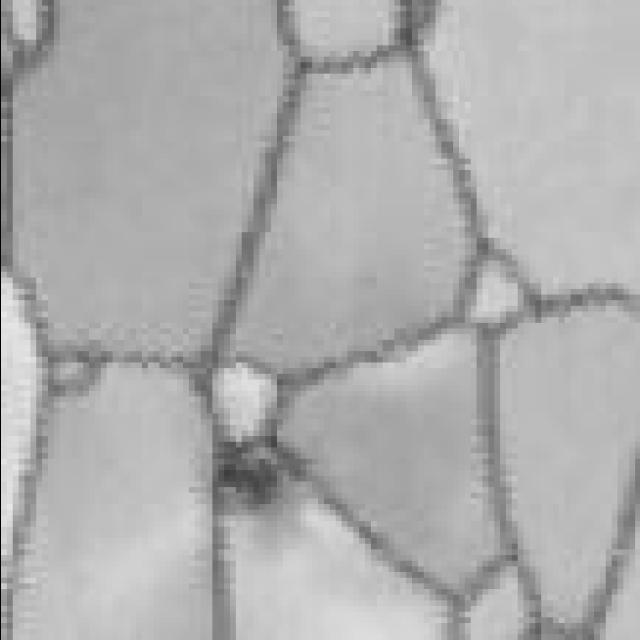good_void: (204, 432, 323, 537)
